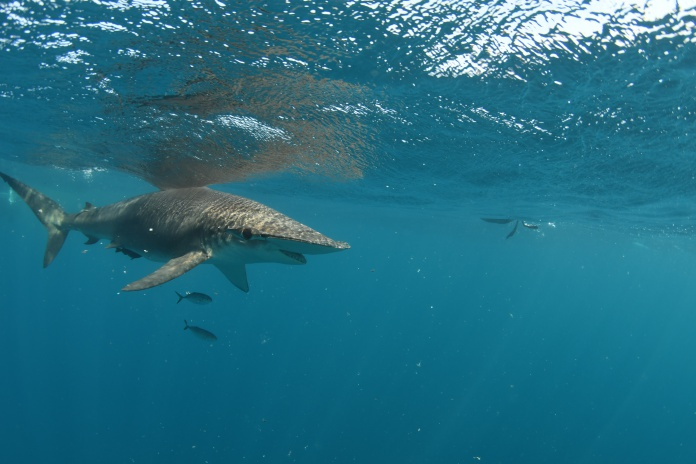Hammer: (1, 150, 373, 343), (119, 213, 340, 306)
